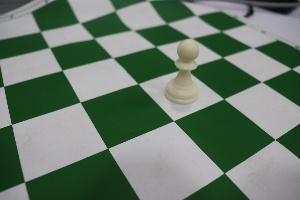white_pawn: (158, 29, 209, 111)
